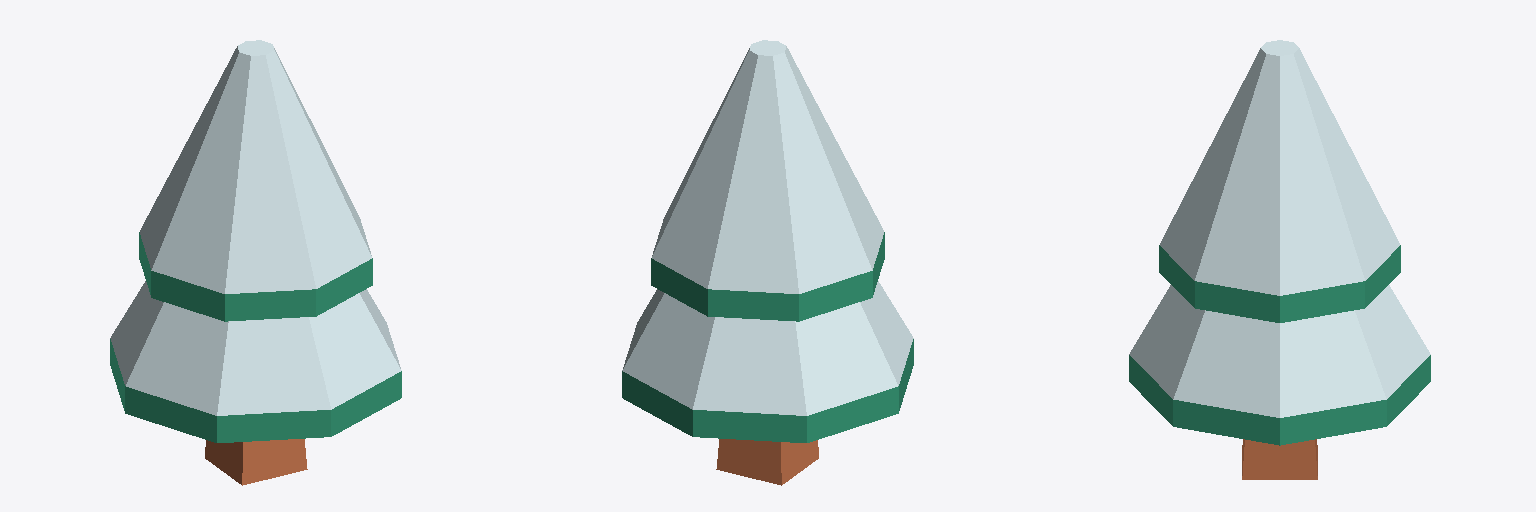
Rendered from snow_detail_treeLarge.obj.
3 views of the same model, side by side, from view 1: azimuth 30°, elevation 25°; view 2: azimuth 150°, elevation 25°; view 3: azimuth 270°, elevation 25° (orthographic).
Parts seen in each view (by area): view 1: snow_detail_treeLarge; view 2: snow_detail_treeLarge; view 3: snow_detail_treeLarge.
Boxes of the visible parts, x1=… form: snow_detail_treeLarge: x1=110, y1=40, x2=401, y2=485; snow_detail_treeLarge: x1=622, y1=40, x2=913, y2=485; snow_detail_treeLarge: x1=1129, y1=40, x2=1430, y2=479.
Size of the model in its own units: 0.5 by 0.76 by 0.5.